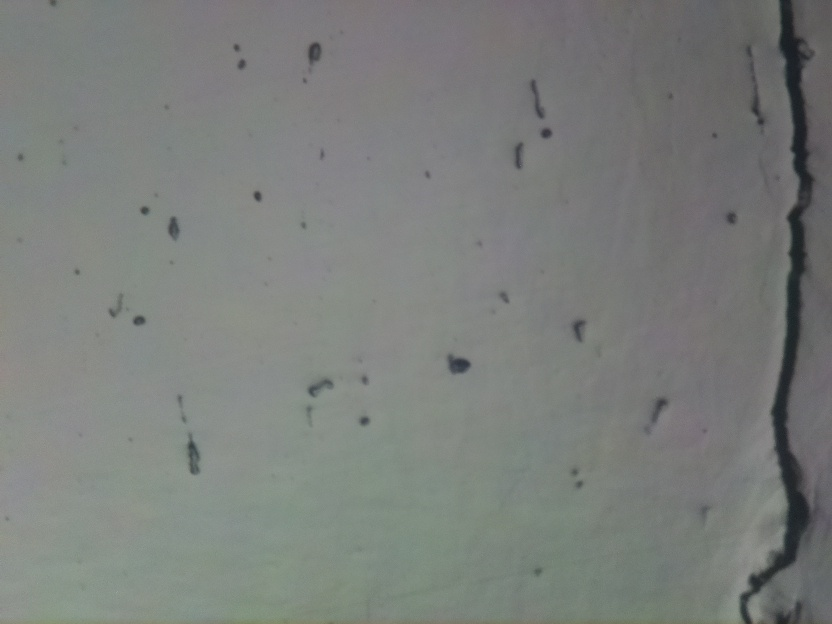crack: (737, 0, 832, 624)
